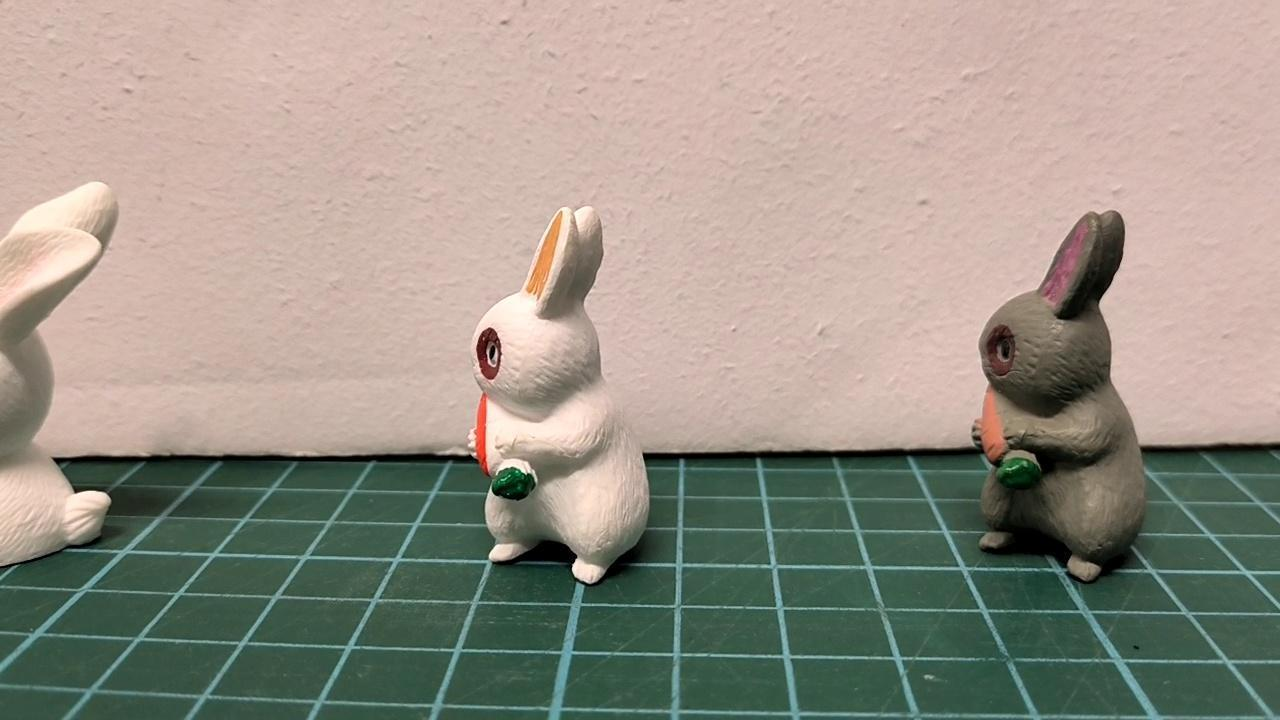pet: (467, 206, 650, 585), (971, 209, 1143, 582), (0, 181, 118, 567)
